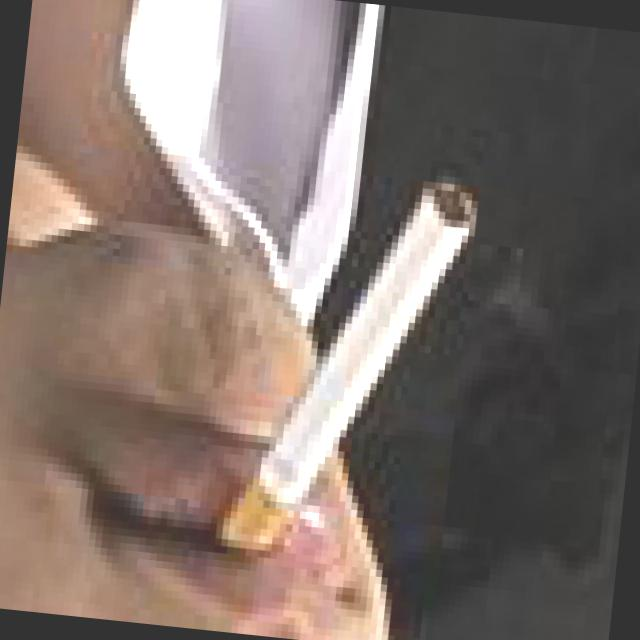smoke: (193, 130, 526, 587)
